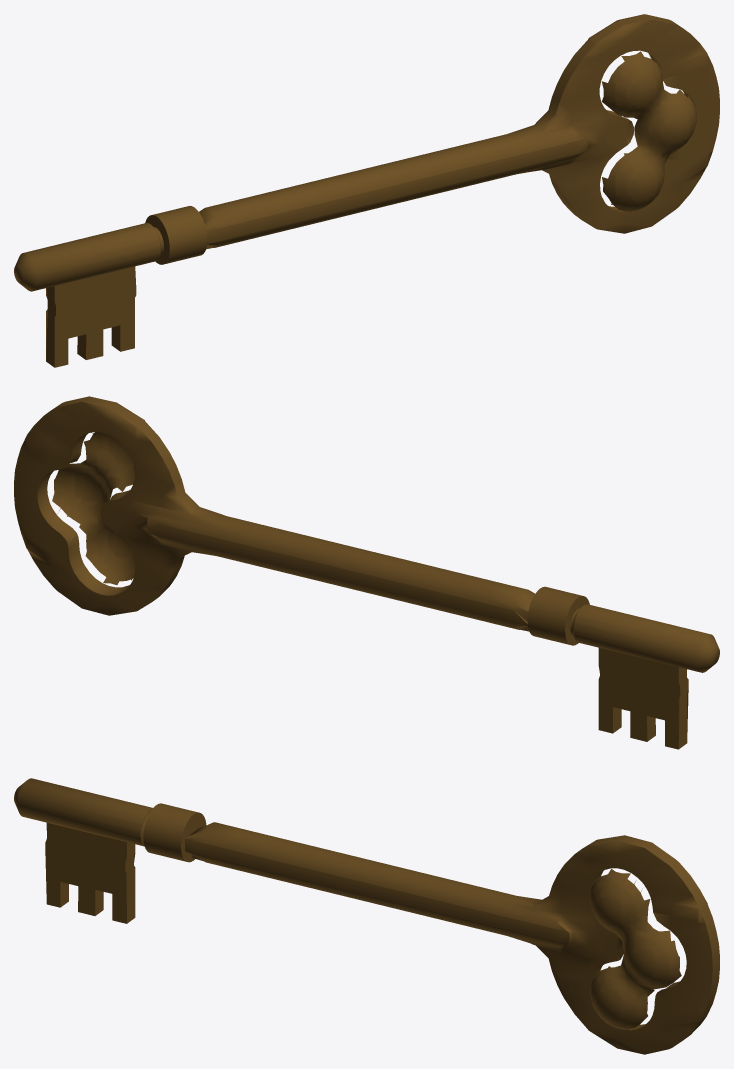
Rendered from Key02.FBX.
3 renders of one model, top to bottom at view 1: azimuth 30°, elevation 25°; view 2: azimuth 150°, elevation 25°; view 3: azimuth 330°, elevation 25°, orthographic.
Visible parts, largest first — view 1: default; view 2: default; view 3: default.
Boxes of the visible parts, x1,y1,x2,y2 form: default: [14, 14, 719, 367]; default: [14, 396, 719, 749]; default: [14, 778, 719, 1054].
Size of the model in its own units: 462 by 132 by 34.2.
